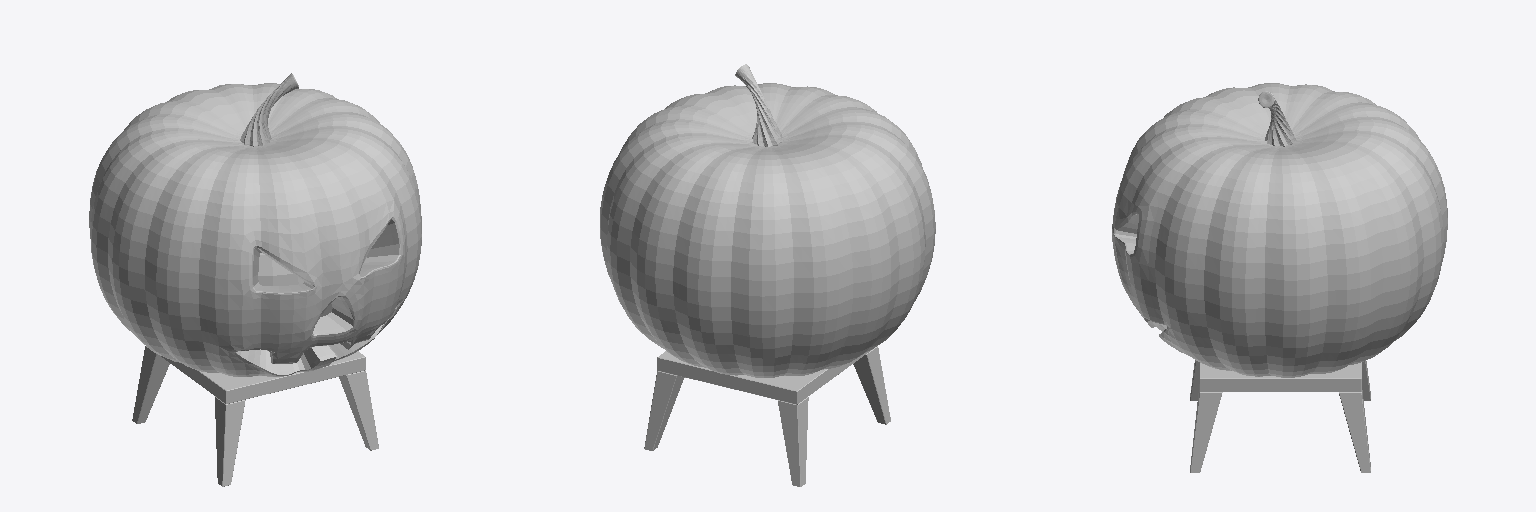
Rendered from pumpkin.obj.
3 views of the same model, side by side, from view 1: azimuth 30°, elevation 25°; view 2: azimuth 150°, elevation 25°; view 3: azimuth 270°, elevation 25° (orthographic).
Parts seen in each view (by area): view 1: Halloween_Pumpkin; view 2: Halloween_Pumpkin; view 3: Halloween_Pumpkin.
Part boxes in pixels (bbox=[...]): Halloween_Pumpkin: bbox=[89, 73, 421, 486]; Halloween_Pumpkin: bbox=[600, 64, 935, 486]; Halloween_Pumpkin: bbox=[1112, 83, 1447, 472].
Bounding box in the file's own units: 625 × 738 × 627.